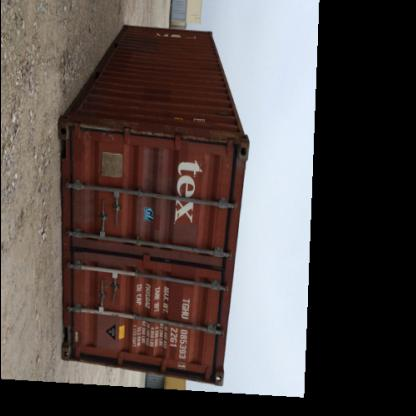Damage: (66, 192, 100, 228), (97, 126, 119, 148), (75, 122, 92, 142)
